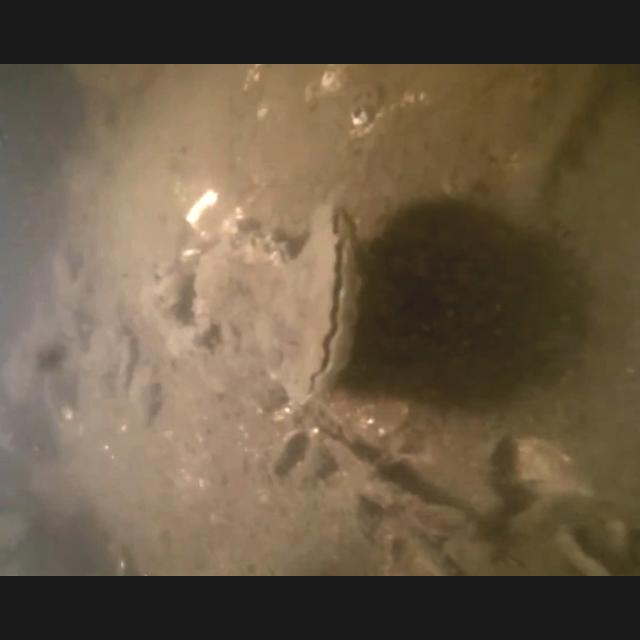Oyster-Open: (256, 204, 366, 408), (194, 226, 292, 370)
